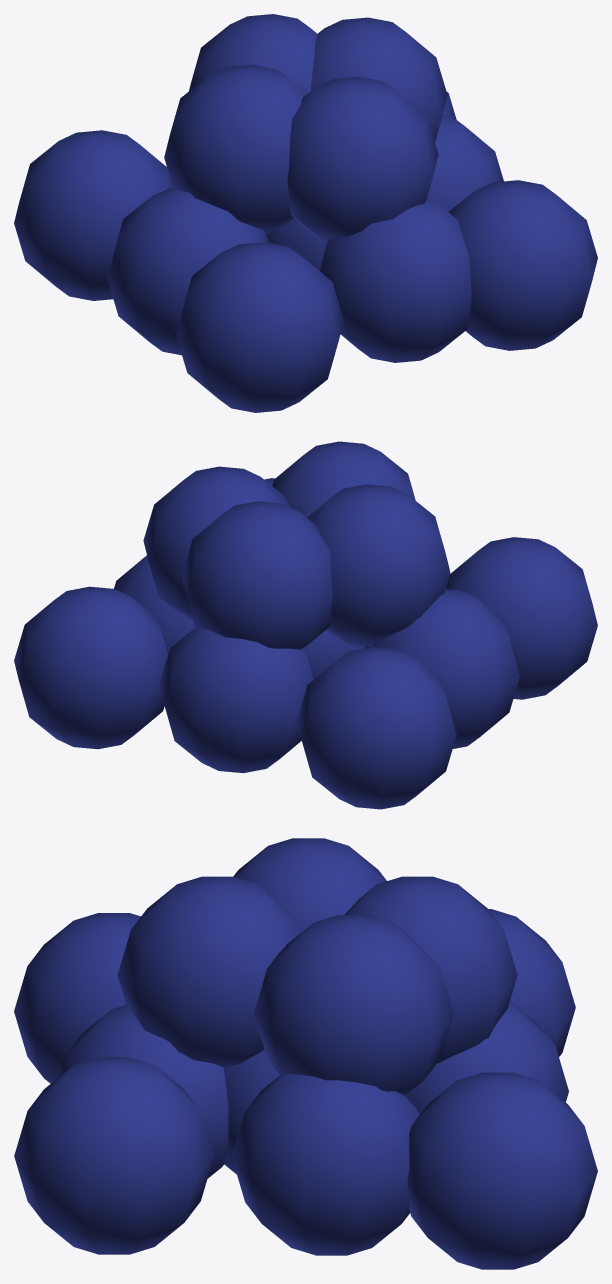
Rendered from Blueberries.fbx.
3 renders of one model, top to bottom at view 1: azimuth 30°, elevation 25°; view 2: azimuth 150°, elevation 25°; view 3: azimuth 270°, elevation 25°, orthographic. The views are drawn at different scales.
Visible parts, largest first — view 1: Blueberries; view 2: Blueberries; view 3: Blueberries.
Boxes of the visible parts, x1=… form: Blueberries: x1=14, y1=14, x2=597, y2=412; Blueberries: x1=14, y1=441, x2=597, y2=809; Blueberries: x1=14, y1=838, x2=597, y2=1269.
Size of the model in its own units: 0.0635 by 0.036 by 0.0642.
